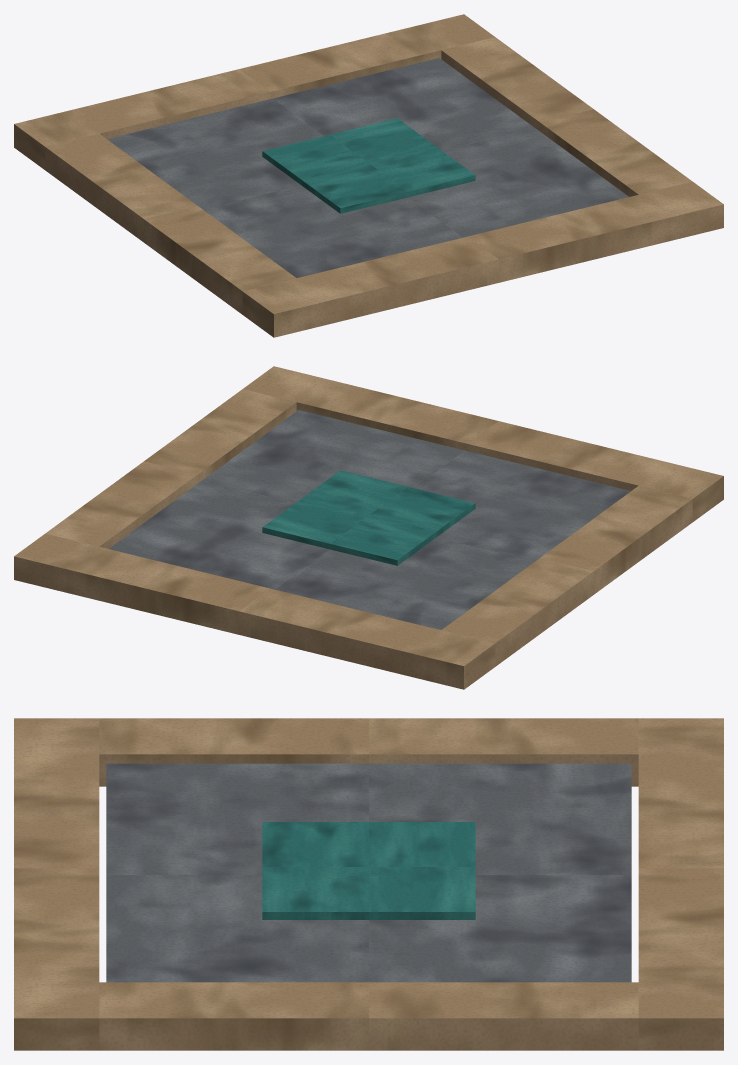
The model's file is pressure-plate.glb.
The picture shows the model from 3 angles, top to bottom: view 1: azimuth 30°, elevation 25°; view 2: azimuth 150°, elevation 25°; view 3: azimuth 270°, elevation 25°; orthographic projection. The views are drawn at different scales.
Visible parts, largest first — view 1: Frame, Plate; view 2: Frame, Plate; view 3: Frame, Plate.
Boxes of the visible parts, <box> form: Frame: <box>14,14,723,337</box>; Plate: <box>107,58,628,277</box>; Frame: <box>14,366,723,689</box>; Plate: <box>109,410,630,629</box>; Frame: <box>14,718,723,1050</box>; Plate: <box>106,763,631,982</box>.
Size of the model in its own units: 1 by 0.052 by 1.
Materials: 3 (3 with a texture image).
